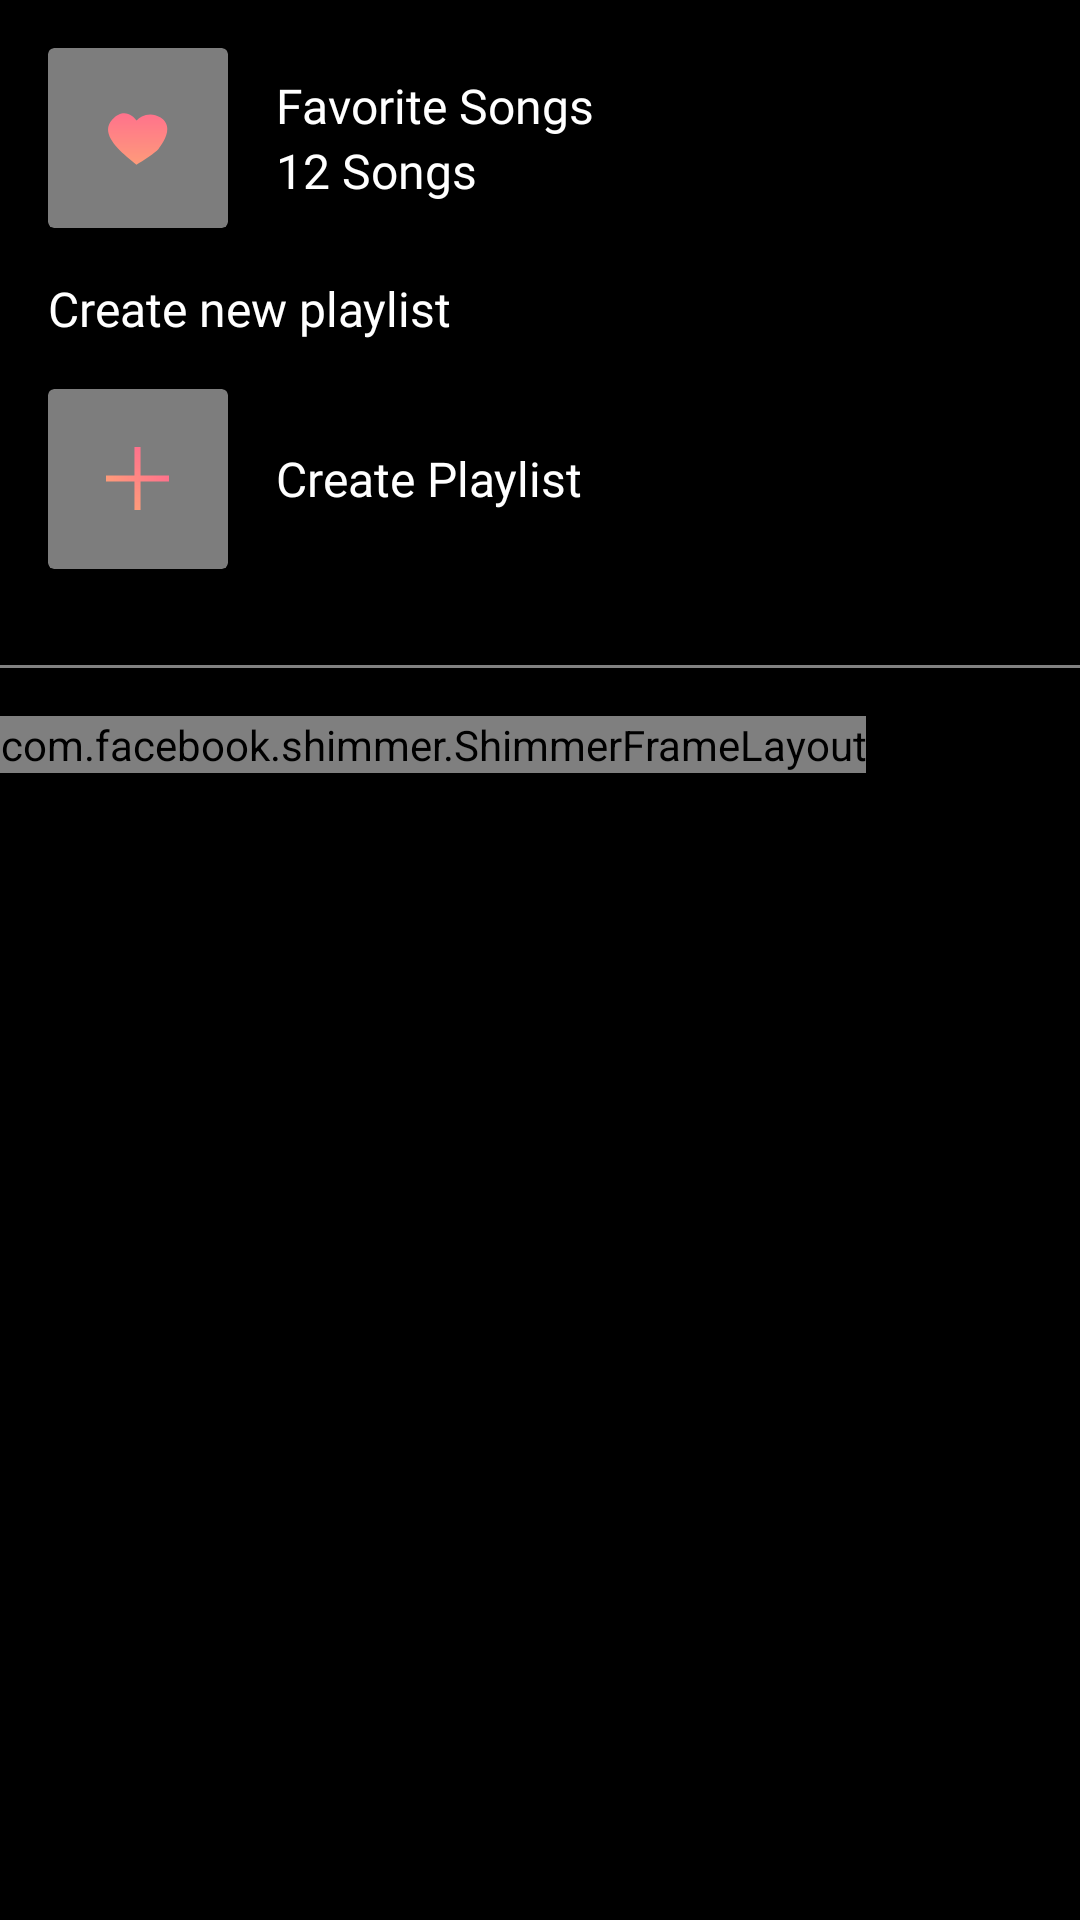

Icon click points for this 1080 x 1920 phone screenshot, format [x,y]:
add to favorite: [138,139]
